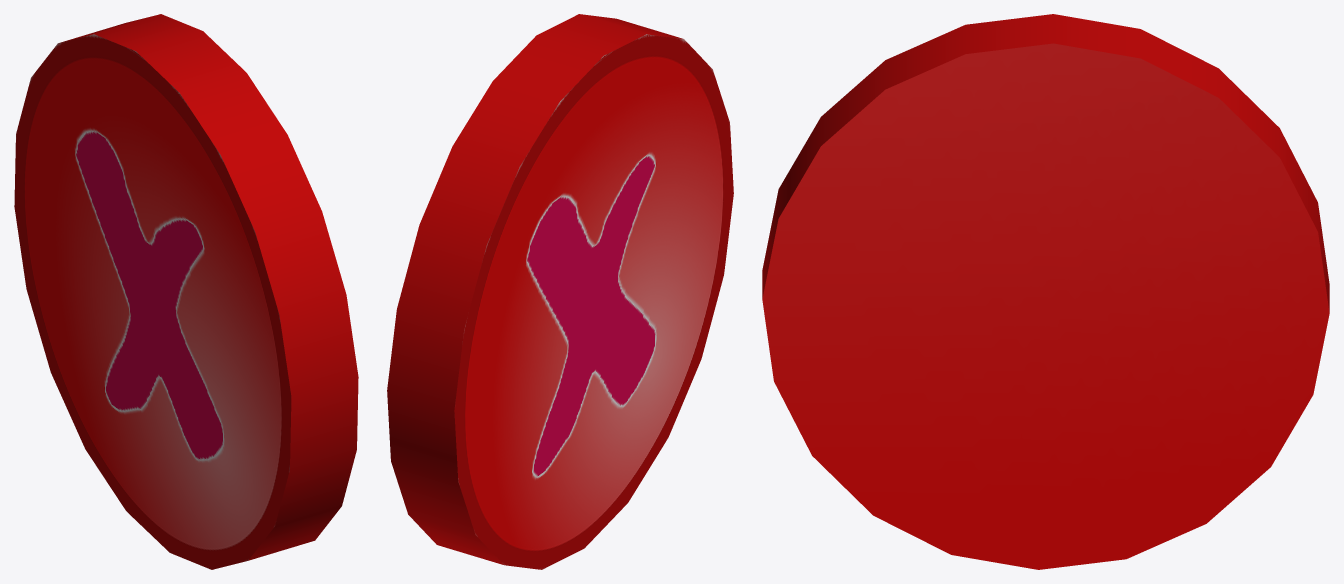
File: NoButton.fbx
The picture shows the model from 3 angles, left to right: view 1: azimuth 30°, elevation 25°; view 2: azimuth 150°, elevation 25°; view 3: azimuth 270°, elevation 25°; orthographic projection. The views are drawn at different scales.
Visible parts, largest first — view 1: pCylinder1; view 2: pCylinder1; view 3: pCylinder1.
Part boxes in pixels (<box>): pCylinder1: <box>14,14,358,569</box>; pCylinder1: <box>387,14,733,569</box>; pCylinder1: <box>762,14,1329,569</box>.
Bounding box in the file's own units: 0.3887 × 2.01 × 2.
Materials: 1 (1 with a texture image).
